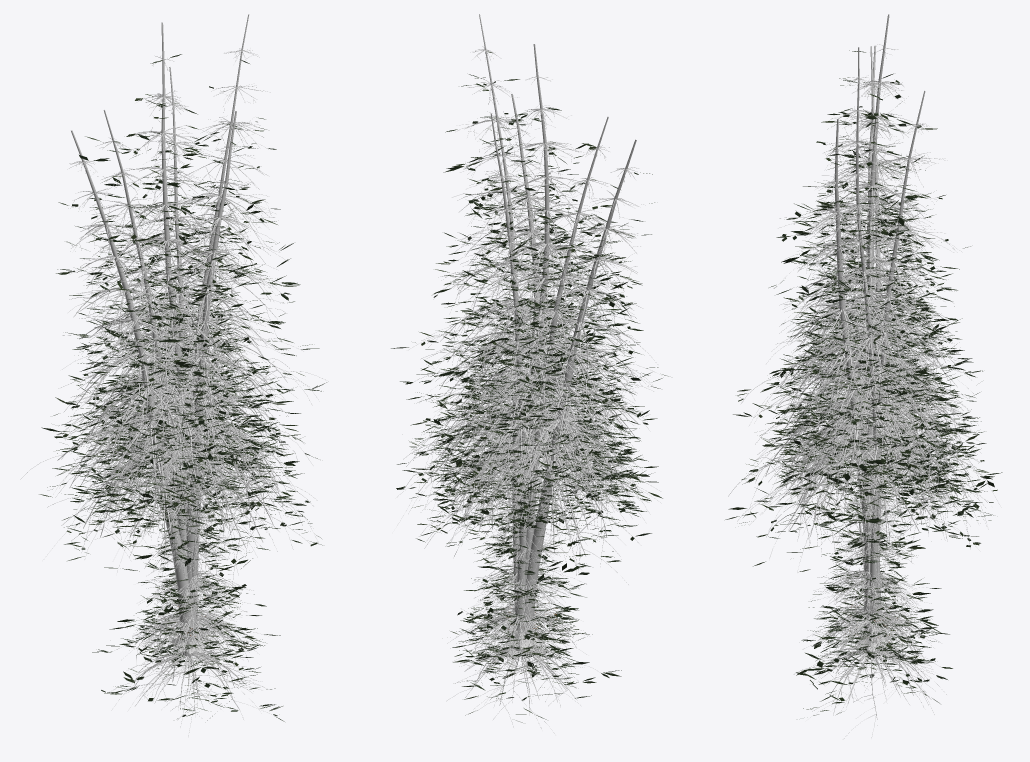
File: trees.glb
3 renders of one model, left to right at view 1: azimuth 30°, elevation 25°; view 2: azimuth 150°, elevation 25°; view 3: azimuth 270°, elevation 25°, orthographic. The views are drawn at different scales.
Parts seen in each view (by area): view 1: big_5_wood, big_0_wood, big_1_wood, big_4_wood, big_2_wood, big_1_leaves, big_3_wood, big_0_leaves, big_2_leaves, big_5_leaves, big_4_leaves, pole_2_wood (+13 smaller); view 2: big_0_wood, big_5_wood, big_1_wood, big_2_wood, big_3_wood, big_1_leaves, big_4_wood, big_0_leaves, big_5_leaves, big_2_leaves, big_3_leaves, big_4_leaves (+13 smaller); view 3: big_1_wood, big_0_wood, big_4_wood, big_3_wood, big_1_leaves, big_2_wood, big_0_leaves, big_5_wood, big_4_leaves, big_2_leaves, big_3_leaves, pole_2_wood (+13 smaller).
Boxes of the visible parts, box(x1,y1,x2,y2) form: big_5_wood: box(20, 130, 257, 656); big_0_wood: box(59, 22, 313, 651); big_1_wood: box(55, 14, 326, 596); big_4_wood: box(84, 111, 309, 655); big_2_wood: box(47, 110, 277, 651); big_1_leaves: box(39, 59, 326, 554); big_3_wood: box(79, 67, 289, 651); big_0_leaves: box(63, 54, 312, 568); big_2_leaves: box(53, 136, 287, 571); big_5_leaves: box(41, 155, 270, 560); big_4_leaves: box(64, 146, 322, 571); pole_2_wood: box(108, 431, 271, 737); big_0_wood: box(413, 44, 644, 647); big_5_wood: box(456, 139, 660, 648); big_1_wood: box(397, 14, 642, 611); big_2_wood: box(420, 117, 661, 646); big_3_wood: box(397, 113, 630, 640); big_1_leaves: box(391, 51, 649, 543); big_4_wood: box(427, 94, 629, 651); big_0_leaves: box(414, 108, 646, 558); big_5_leaves: box(447, 172, 662, 574); big_2_leaves: box(412, 143, 668, 568); big_3_leaves: box(396, 139, 633, 551); big_4_leaves: box(415, 165, 624, 568); big_1_wood: box(737, 47, 1000, 616); big_0_wood: box(728, 14, 992, 612); big_4_wood: box(743, 119, 965, 652); big_3_wood: box(762, 91, 983, 646); big_1_leaves: box(725, 77, 1002, 566); big_2_wood: box(753, 46, 989, 642); big_0_leaves: box(733, 50, 991, 564); big_5_wood: box(752, 45, 981, 650); big_4_leaves: box(756, 146, 981, 571); big_2_leaves: box(748, 125, 993, 549); big_3_leaves: box(773, 119, 993, 531); pole_2_wood: box(794, 424, 934, 739).
Bounding box in the file's own units: 13.52 × 31.29 × 12.36.
